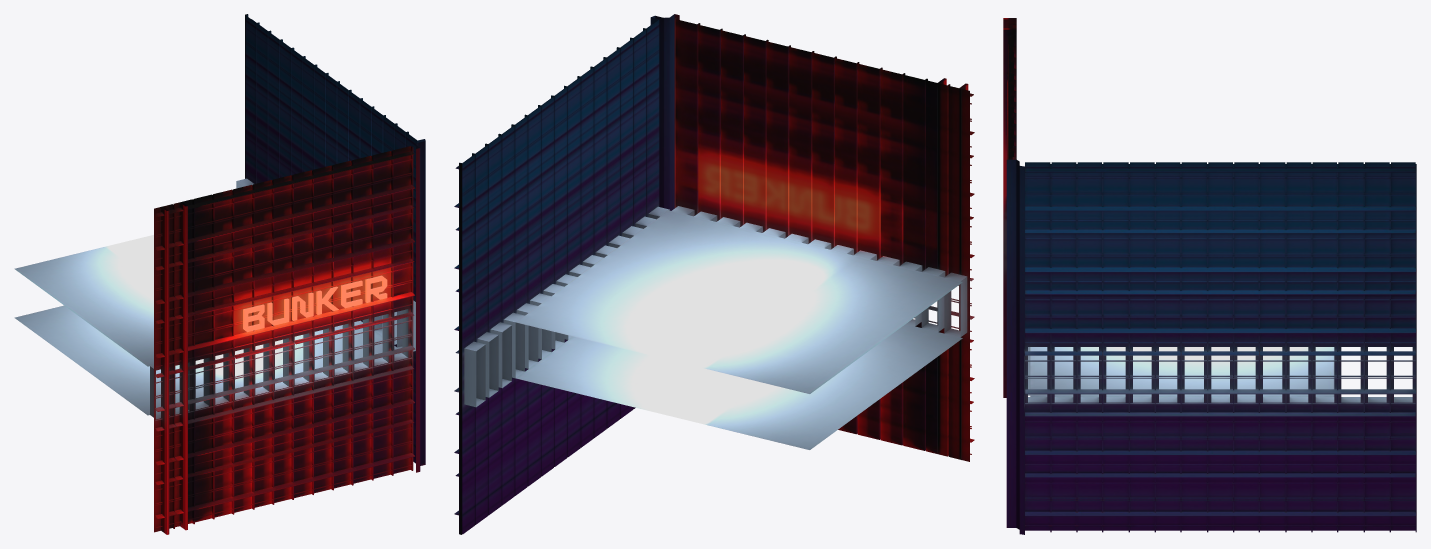
File: bunker.glb
3 views of the same model, side by side, from view 1: azimuth 30°, elevation 25°; view 2: azimuth 150°, elevation 25°; view 3: azimuth 270°, elevation 25° (orthographic). The views are drawn at different scales.
Visible parts, largest first — view 1: EDF_01.001; view 2: EDF_01.001; view 3: EDF_01.001.
Boxes of the visible parts, left/top/right/bottom form: EDF_01.001: left=14, top=14, right=425, bottom=534; EDF_01.001: left=454, top=14, right=974, bottom=534; EDF_01.001: left=1003, top=18, right=1416, bottom=534.
Size of the model in its own units: 13.94 by 15.69 by 15.97.
Materials: 2 (1 with a texture image).
